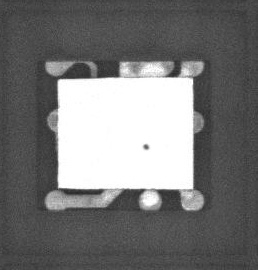DIE_INK: (134, 148, 145, 158)
